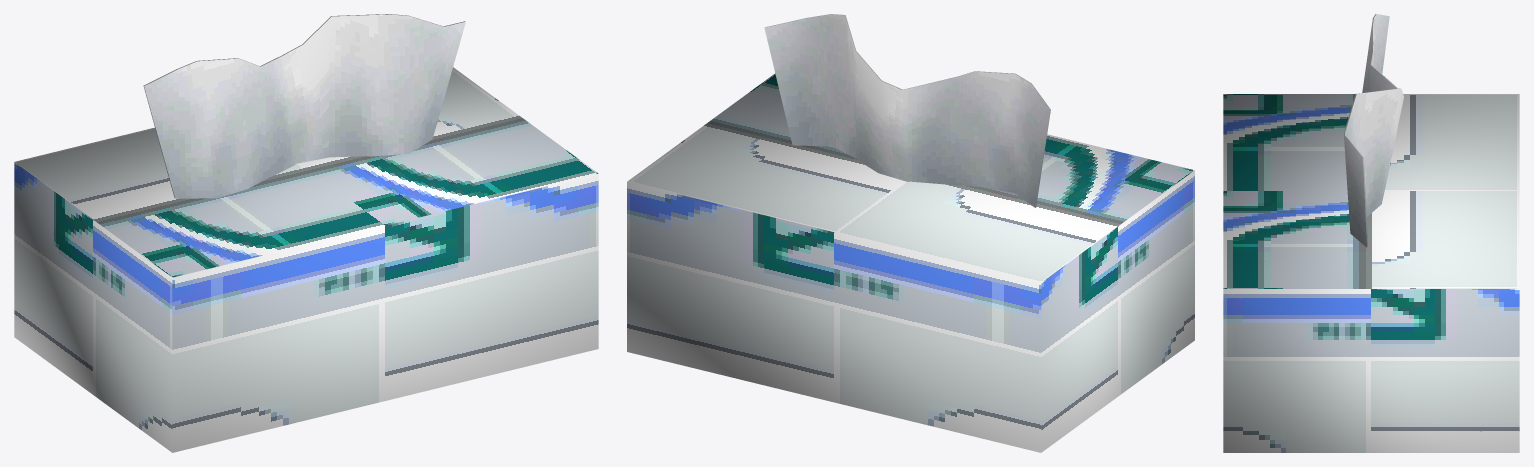
File: int_oth_tissue.dae
3 views of the same model, side by side, from view 1: azimuth 30°, elevation 25°; view 2: azimuth 150°, elevation 25°; view 3: azimuth 270°, elevation 25° (orthographic). The views are drawn at different scales.
Parts seen in each view (by area): view 1: int_oth_tissue; view 2: int_oth_tissue; view 3: int_oth_tissue.
Part boxes in pixels (<box>): int_oth_tissue: <box>14,14,598,452</box>; int_oth_tissue: <box>627,14,1194,452</box>; int_oth_tissue: <box>1223,14,1519,452</box>.
Size of the model in its own units: 18.05 by 12.8 by 11.6.
3 materials, 3 textured.
